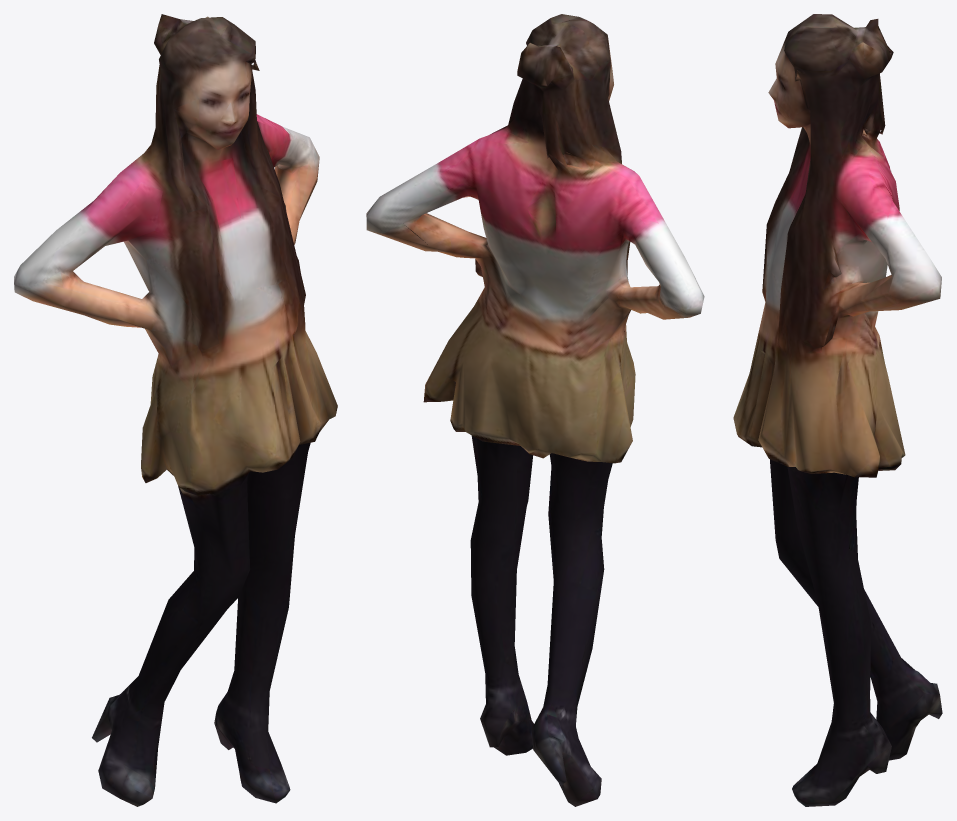
File: 04_person.glb
3 views of the same model, side by side, from view 1: azimuth 30°, elevation 25°; view 2: azimuth 150°, elevation 25°; view 3: azimuth 270°, elevation 25° (orthographic). The views are drawn at different scales.
Size of the model in its own units: 43.12 by 99.79 by 24.78.
Materials: 1 (1 with a texture image).
